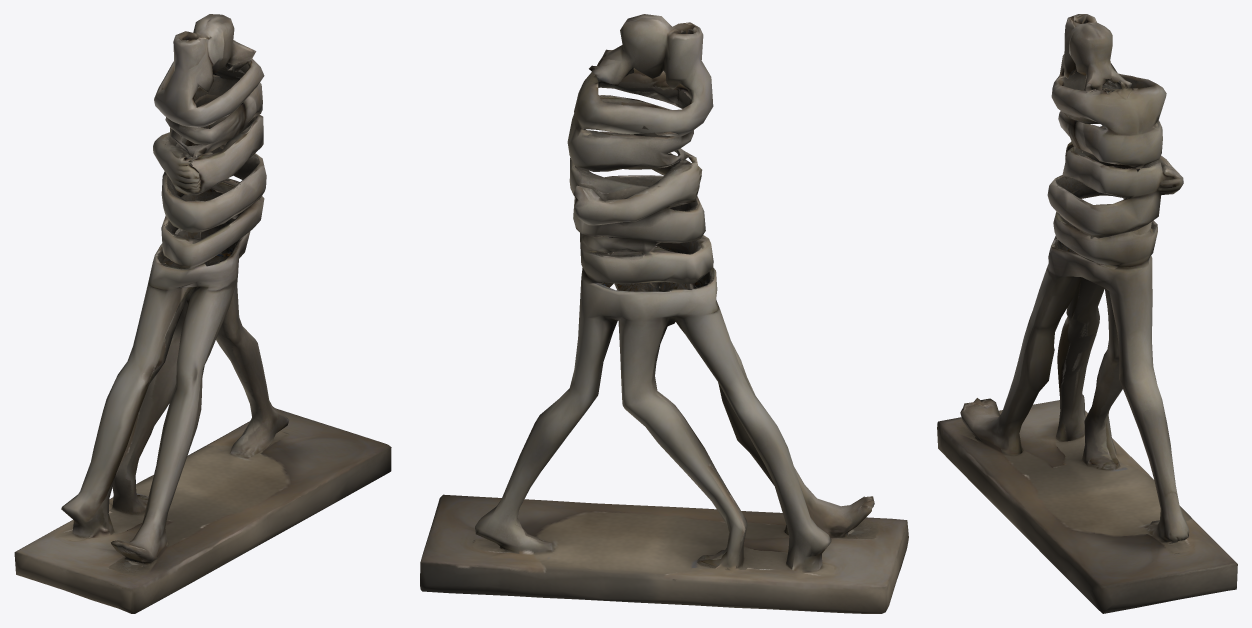
The model's file is estatuanueva8.obj.
3 renders of one model, left to right at view 1: azimuth 30°, elevation 25°; view 2: azimuth 150°, elevation 25°; view 3: azimuth 270°, elevation 25°, orthographic. The views are drawn at different scales.
Visible parts, largest first — view 1: estatuanueva8; view 2: estatuanueva8; view 3: estatuanueva8.
Part boxes in pixels (bbox=[...]): estatuanueva8: bbox=[14, 14, 391, 613]; estatuanueva8: bbox=[420, 14, 908, 613]; estatuanueva8: bbox=[937, 14, 1237, 613].
Size of the model in its own units: 9.24 by 11.34 by 6.18.
1 material, 1 textured.
